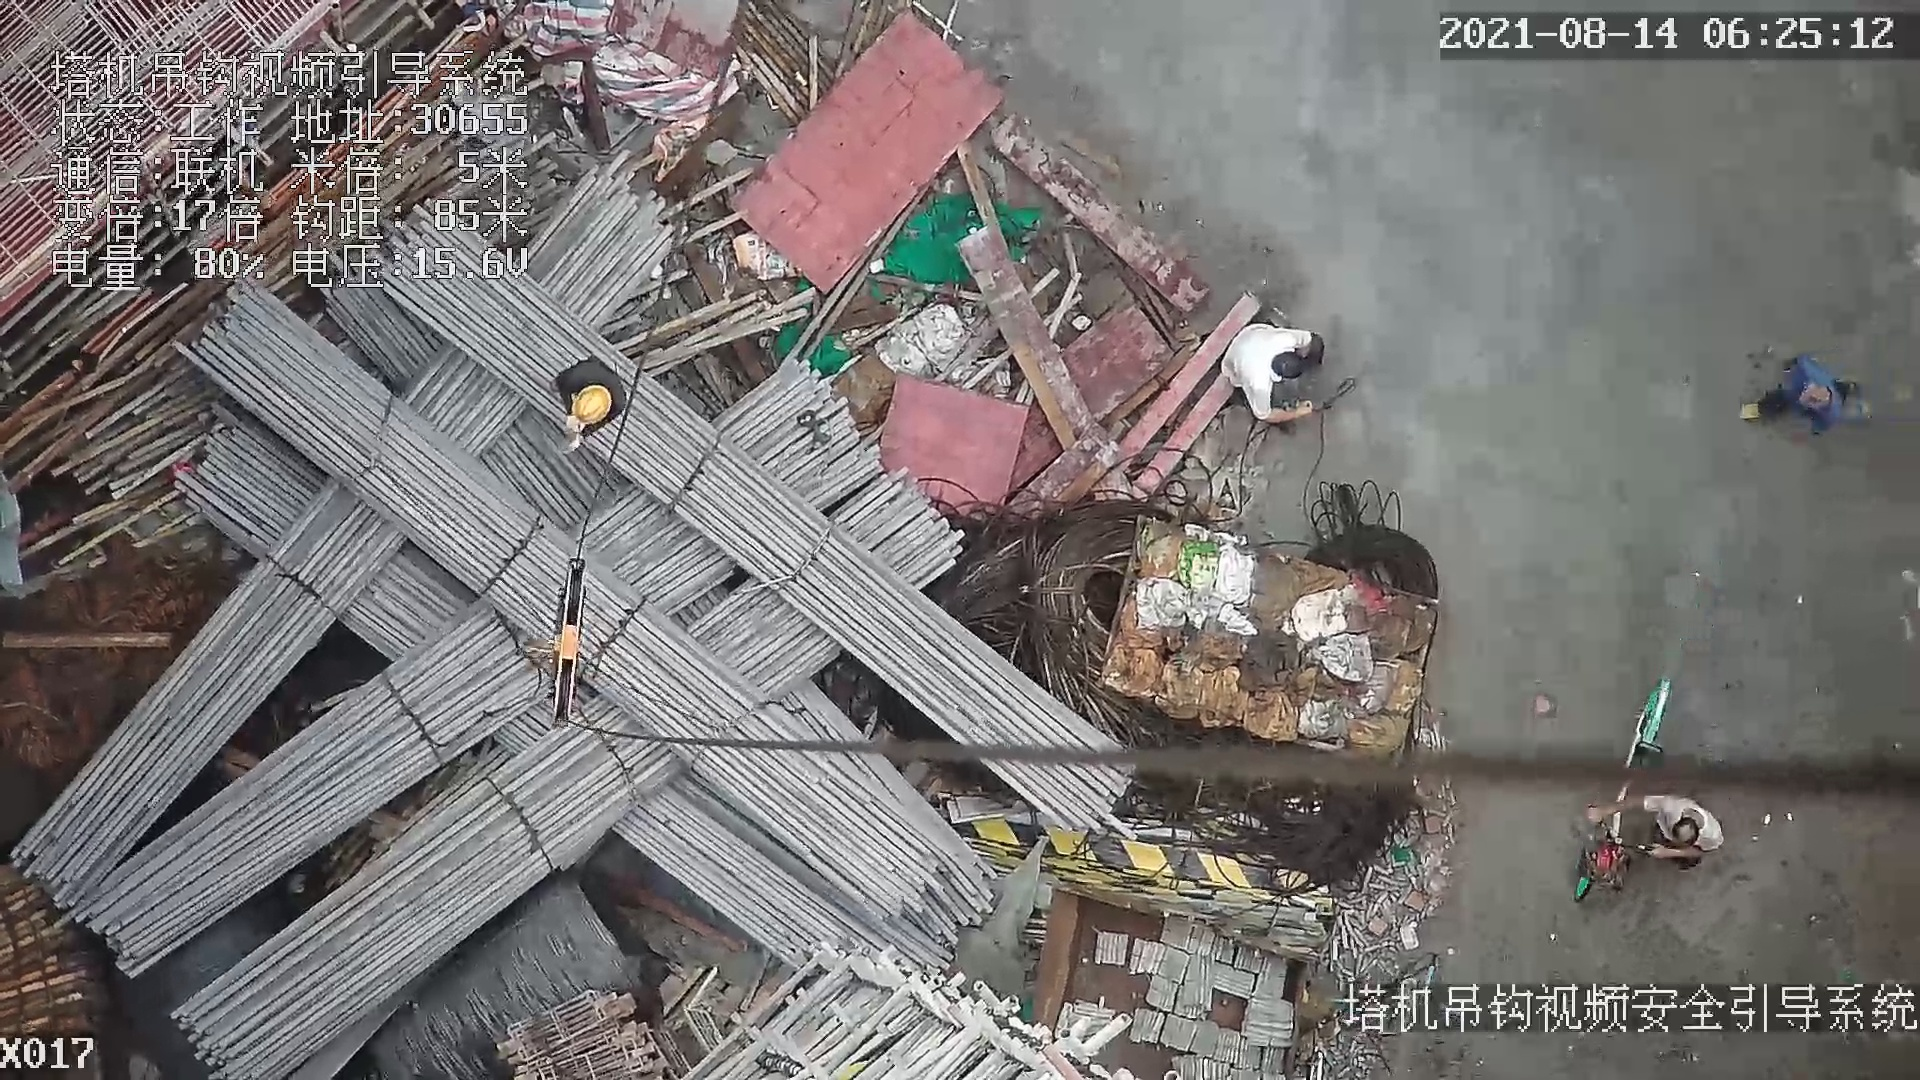helmet: (572, 382, 613, 427)
person: (1583, 790, 1732, 872), (1222, 321, 1329, 430), (1741, 358, 1874, 436), (550, 356, 631, 454)
